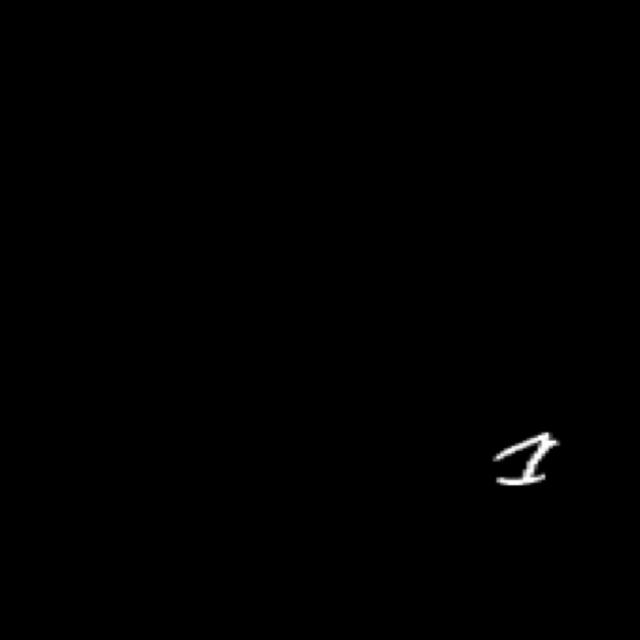one -1-: (476, 420, 578, 506)
